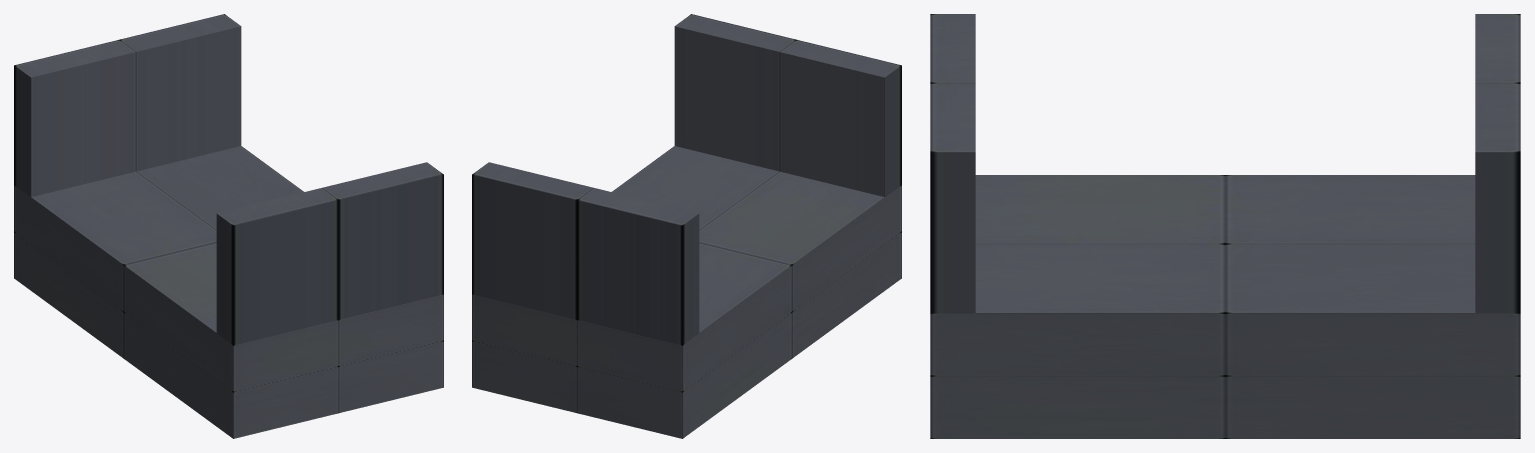
Rendered from machine_base.glb.
3 renders of one model, left to right at view 1: azimuth 30°, elevation 25°; view 2: azimuth 150°, elevation 25°; view 3: azimuth 270°, elevation 25°, orthographic. The views are drawn at different scales.
Parts seen in each view (by area): view 1: Cube; view 2: Cube; view 3: Cube.
Part boxes in pixels (x1=…): Cube: x1=14, y1=14, x2=443, y2=438; Cube: x1=472, y1=14, x2=901, y2=438; Cube: x1=930, y1=14, x2=1520, y2=438.
Bounding box in the file's own units: 2 × 1.94 × 3.61.
1 material, 1 textured.
